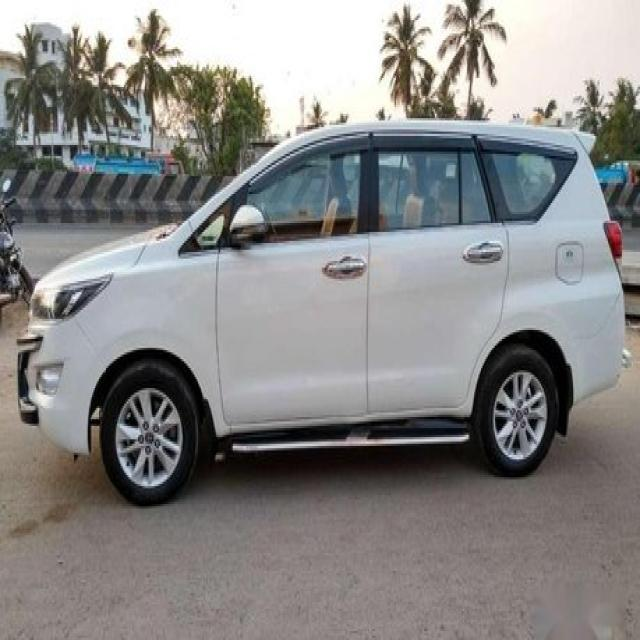light_vehicle: (17, 118, 627, 506)
